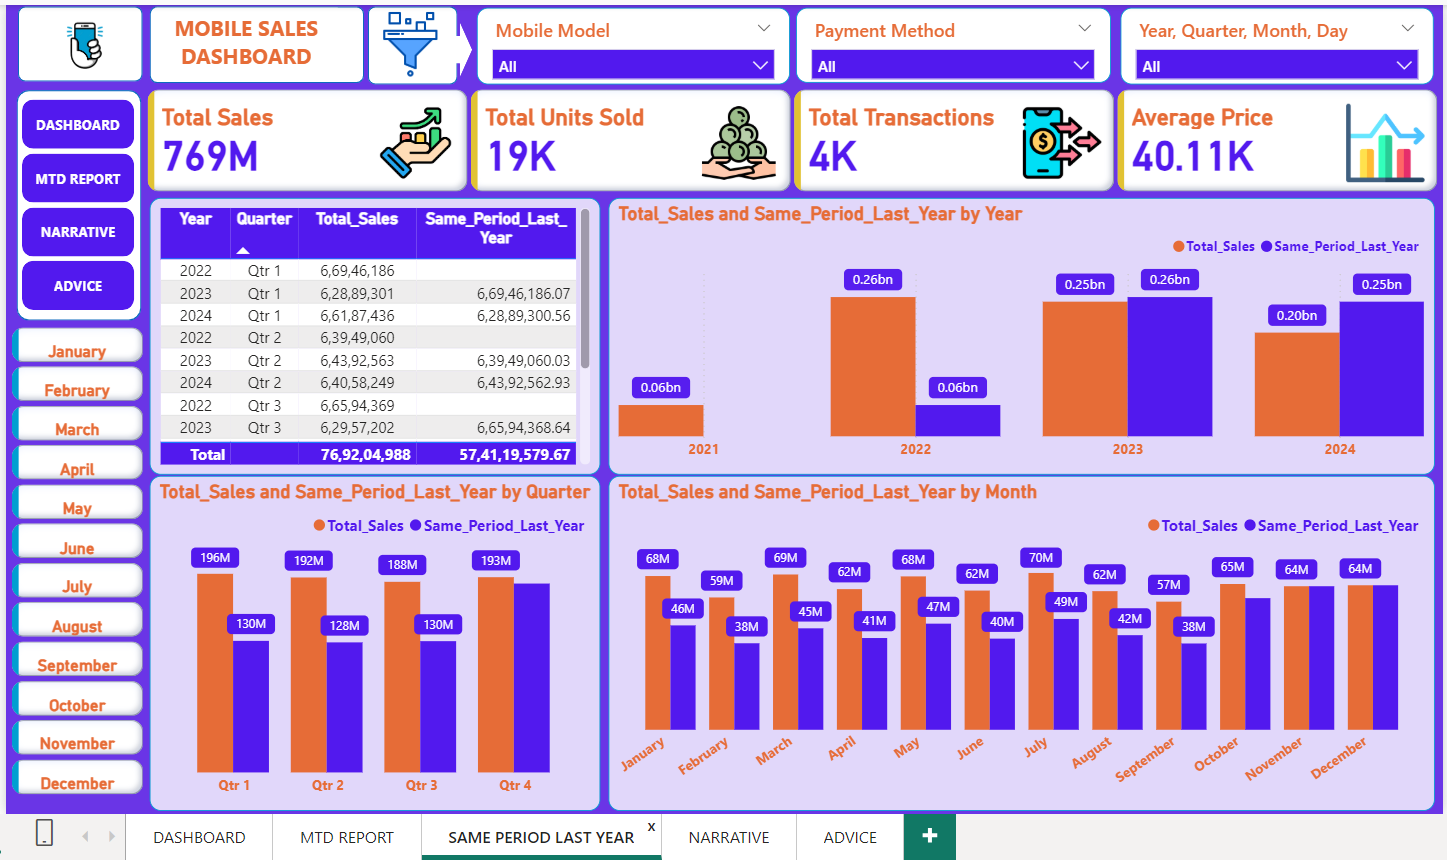

Layout of this report page (visuals, bound fields, positions):
{"tool":"powerbi","page":{"name":"SAME PERIOD LAST YEAR","canvas":[1280,720],"ordinal":2},"visuals":[{"type":"shape","box":[9,76.2,111,205.3],"z":0},{"type":"clusteredColumnChart","fields":{"Category":["Custom_Calender.Date.Variation.Date Hierarchy.Year","Custom_Calender.Date.Variation.Date Hierarchy.Quarter"],"Y":["Sales_Data.Total_Sales","Sales_Data.Same_Period_Last_Year"]},"box":[127.8,419.6,401.5,298.2],"z":1000},{"type":"shape","box":[10.3,1.3,111,67.1],"z":2000},{"type":"image","box":[23.2,3.9,92.9,64.5],"z":3000},{"type":"slicer","fields":{"Values":["Sales_Data.Mobile Model"]},"box":[419.6,2.6,278.8,68.4],"z":4000},{"type":"slicer","fields":{"Values":["Sales_Data.Payment Method"]},"box":[703.6,2.6,280.1,67.1],"z":5000},{"type":"slicer","fields":{"Values":["Custom_Calender.Date.Variation.Date Hierarchy.Year","Custom_Calender.Date.Variation.Date Hierarchy.Quarter","Custom_Calender.Date.Variation.Date Hierarchy.Month","Custom_Calender.Date.Variation.Date Hierarchy.Day"]},"box":[992.8,2.6,278.8,68.4],"z":6000},{"type":"shape","box":[322.7,1.3,80,69.7],"z":7000},{"type":"image","box":[322.7,0,76.2,69.7],"z":8000},{"type":"shape","box":[393.7,15.5,21.9,49],"z":9000},{"type":"shape","box":[127.8,1.3,191.1,68.4],"z":10000},{"type":"textbox","box":[133,2.6,162.7,63.2],"z":11000},{"type":"advancedSlicerVisual","fields":{"Values":["Custom_Calender.Date.Variation.Date Hierarchy.Month"]},"box":[0,281.4,127.8,436.3],"z":12000},{"type":"tableEx","fields":{"Values":["Custom_Calender.Date.Variation.Date Hierarchy.Year","Custom_Calender.Date.Variation.Date Hierarchy.Quarter","Sales_Data.Total_Sales","Sales_Data.Same_Period_Last_Year"]},"box":[127.8,171.7,401.5,246.6],"z":13000},{"type":"clusteredColumnChart","fields":{"Category":["Custom_Calender.Date.Variation.Date Hierarchy.Year","Custom_Calender.Date.Variation.Date Hierarchy.Quarter"],"Y":["Sales_Data.Total_Sales","Sales_Data.Same_Period_Last_Year"]},"box":[537,171.7,735.8,246.6],"z":14000},{"type":"clusteredColumnChart","fields":{"Y":["Sales_Data.Total_Sales","Sales_Data.Same_Period_Last_Year"],"Category":["Custom_Calender.Date.Variation.Date Hierarchy.Month"]},"box":[537,419.6,735.8,298.2],"z":15000},{"type":"cardVisual","fields":{"Data":["Sales_Data.Total_Sales","Sales_Data.total units sold","Sales_Data.Total_Transactions","Sales_Data.Average_Price"]},"box":[121.4,69.7,1159.3,102],"z":16000},{"type":"pageNavigator","box":[14.2,83.9,100.7,191.1],"z":17000}]}

Visuals, with their boxes on the page's 1280x720 design canvas (x1, y1, x2, y2). These are canvas units, not pixel positions in the 1447x860 screenshot, which may show the page scaled, cropped or inside an application window:
shape: pyautogui.locateOnScreen(9, 76, 120, 282)
clusteredColumnChart - Custom_Calender.Date.Variation.Date Hierarchy.Year x Custom_Calender.Date.Variation.Date Hierarchy.Quarter: pyautogui.locateOnScreen(128, 420, 529, 718)
shape: pyautogui.locateOnScreen(10, 1, 121, 68)
image: pyautogui.locateOnScreen(23, 4, 116, 68)
slicer - Sales_Data.Mobile Model: pyautogui.locateOnScreen(420, 3, 698, 71)
slicer - Sales_Data.Payment Method: pyautogui.locateOnScreen(704, 3, 984, 70)
slicer - Custom_Calender.Date.Variation.Date Hierarchy.Year x Custom_Calender.Date.Variation.Date Hierarchy.Quarter: pyautogui.locateOnScreen(993, 3, 1272, 71)
shape: pyautogui.locateOnScreen(323, 1, 403, 71)
image: pyautogui.locateOnScreen(323, 0, 399, 70)
shape: pyautogui.locateOnScreen(394, 16, 416, 64)
shape: pyautogui.locateOnScreen(128, 1, 319, 70)
textbox: pyautogui.locateOnScreen(133, 3, 296, 66)
advancedSlicerVisual - Custom_Calender.Date.Variation.Date Hierarchy.Month: pyautogui.locateOnScreen(0, 281, 128, 718)
tableEx - Custom_Calender.Date.Variation.Date Hierarchy.Year x Custom_Calender.Date.Variation.Date Hierarchy.Quarter: pyautogui.locateOnScreen(128, 172, 529, 418)
clusteredColumnChart - Custom_Calender.Date.Variation.Date Hierarchy.Year x Custom_Calender.Date.Variation.Date Hierarchy.Quarter: pyautogui.locateOnScreen(537, 172, 1273, 418)
clusteredColumnChart - Sales_Data.Total_Sales x Sales_Data.Same_Period_Last_Year: pyautogui.locateOnScreen(537, 420, 1273, 718)
cardVisual - Sales_Data.Total_Sales x Sales_Data.total units sold: pyautogui.locateOnScreen(121, 70, 1281, 172)
pageNavigator: pyautogui.locateOnScreen(14, 84, 115, 275)
